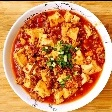mapodoufu: (12, 7, 105, 104)
